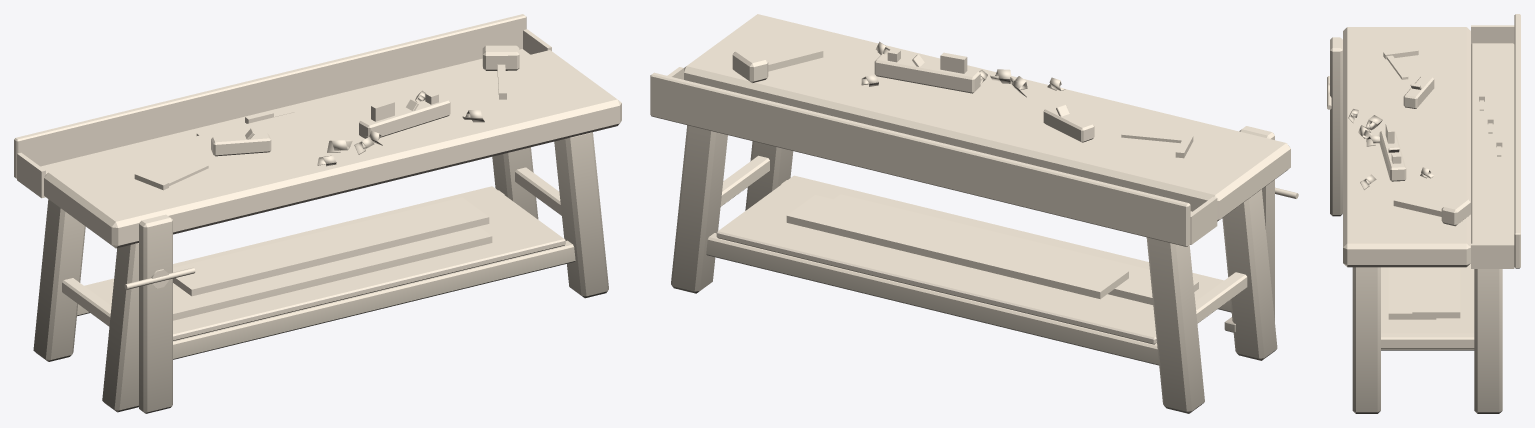
The model's file is SM_VKI_Prop_Workbench_Carpenter.fbx.
The picture shows the model from 3 angles, left to right: view 1: azimuth 30°, elevation 25°; view 2: azimuth 150°, elevation 25°; view 3: azimuth 270°, elevation 25°; orthographic projection. The views are drawn at different scales.
Visible parts, largest first — view 1: SM_VKI_Prop_Workbench_Carpenter.001; view 2: SM_VKI_Prop_Workbench_Carpenter.001; view 3: SM_VKI_Prop_Workbench_Carpenter.001.
Part boxes in pixels (x1,y1,x2,y2): SM_VKI_Prop_Workbench_Carpenter.001: (14,14,621,413); SM_VKI_Prop_Workbench_Carpenter.001: (650,14,1298,413); SM_VKI_Prop_Workbench_Carpenter.001: (1327,14,1520,413).
Bounding box in the file's own units: 2.4 × 1.01 × 0.8936.
